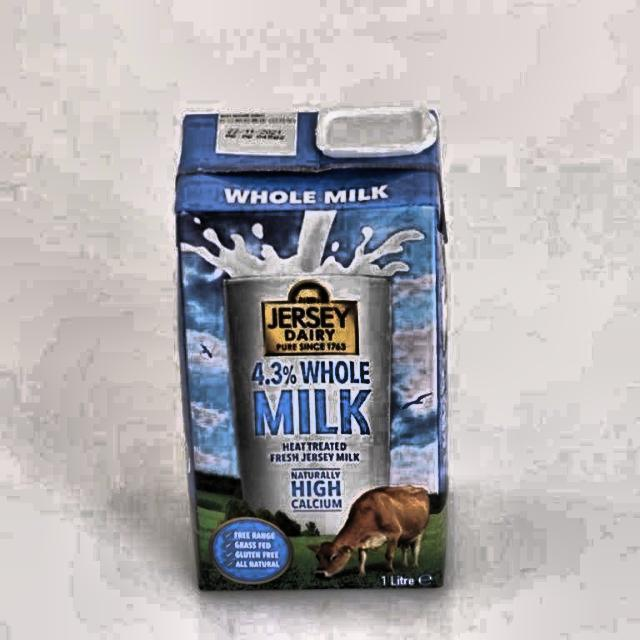cardboard: (173, 106, 450, 592)
